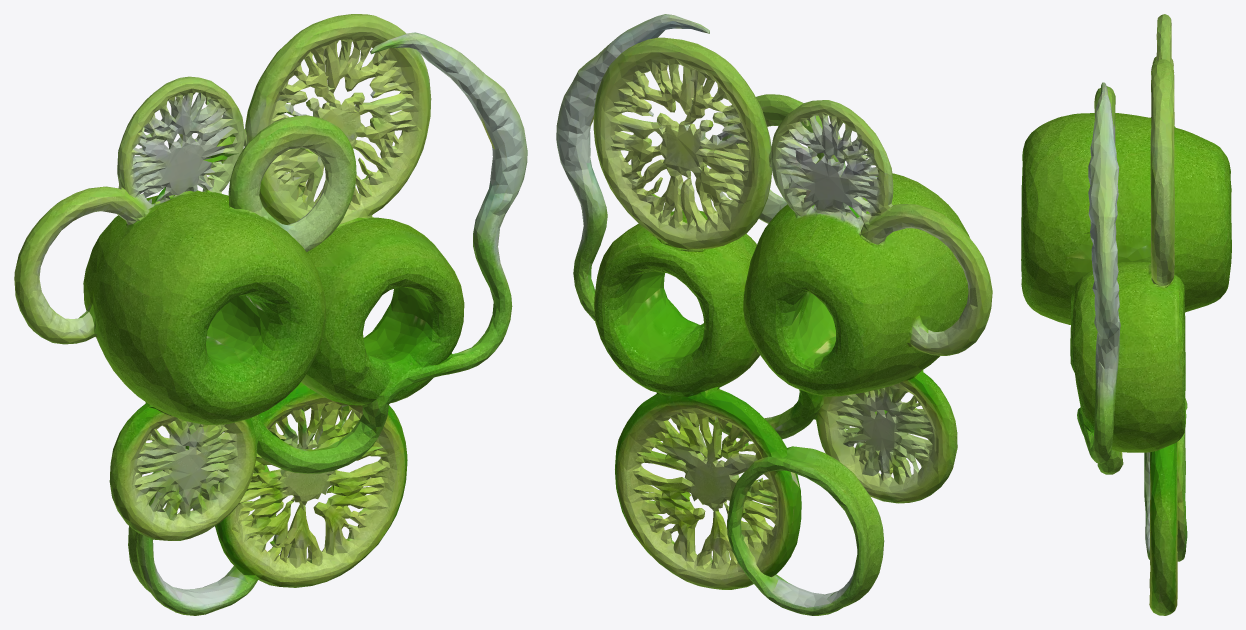
File: wing (328).glb
The picture shows the model from 3 angles, left to right: view 1: azimuth 30°, elevation 25°; view 2: azimuth 150°, elevation 25°; view 3: azimuth 270°, elevation 25°; orthographic projection. The views are drawn at different scales.
Visible parts, largest first — view 1: Hy21_Mesh.obj; view 2: Hy21_Mesh.obj; view 3: Hy21_Mesh.obj.
Boxes of the visible parts, box(x1,y1,x2,y2) form: Hy21_Mesh.obj: box(14, 14, 527, 615); Hy21_Mesh.obj: box(556, 14, 992, 615); Hy21_Mesh.obj: box(1021, 14, 1231, 615).
Size of the model in its own units: 1.76 by 1.96 by 0.681.
1 material, 1 textured.
